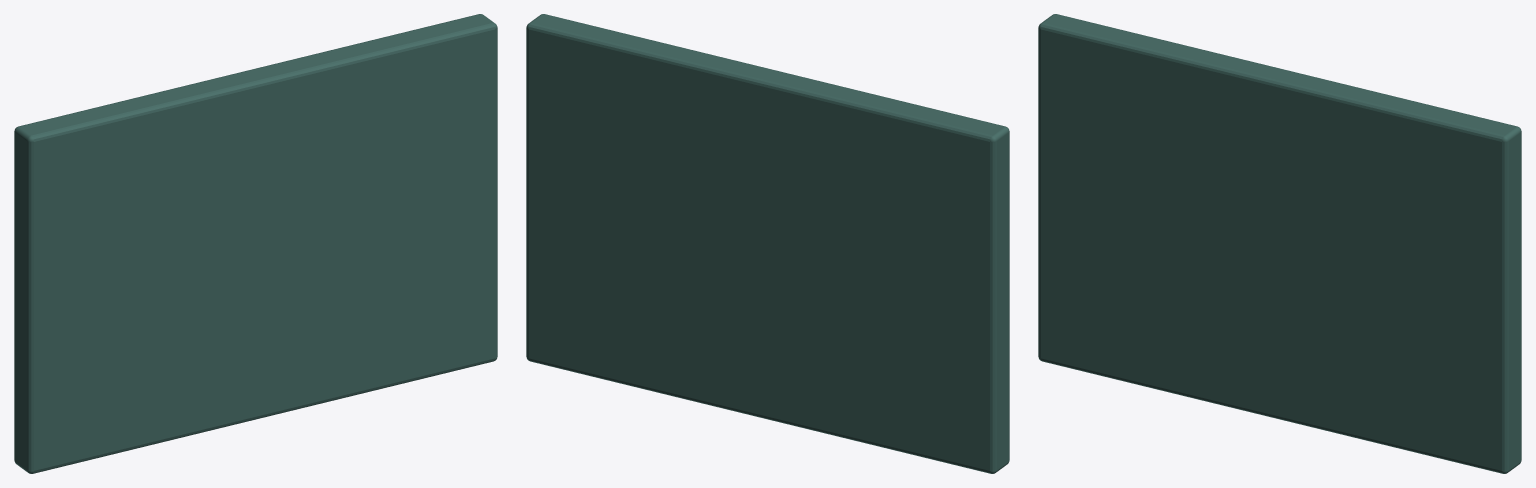
The model's file is liftStop.glb.
3 renders of one model, left to right at view 1: azimuth 30°, elevation 25°; view 2: azimuth 150°, elevation 25°; view 3: azimuth 330°, elevation 25°, orthographic.
Visible parts, largest first — view 1: liftStop; view 2: liftStop; view 3: liftStop.
Boxes of the visible parts, x1=… form: liftStop: x1=14, y1=14, x2=497, y2=473; liftStop: x1=526, y1=14, x2=1009, y2=473; liftStop: x1=1038, y1=14, x2=1521, y2=473.
Size of the model in its own units: 0.032 by 0.022 by 0.002.
